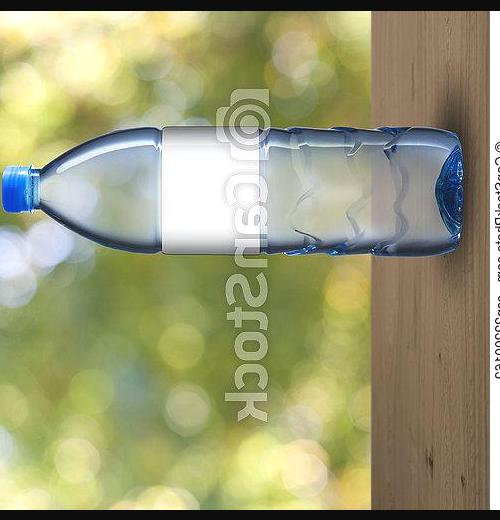bottle: (0, 113, 479, 267)
